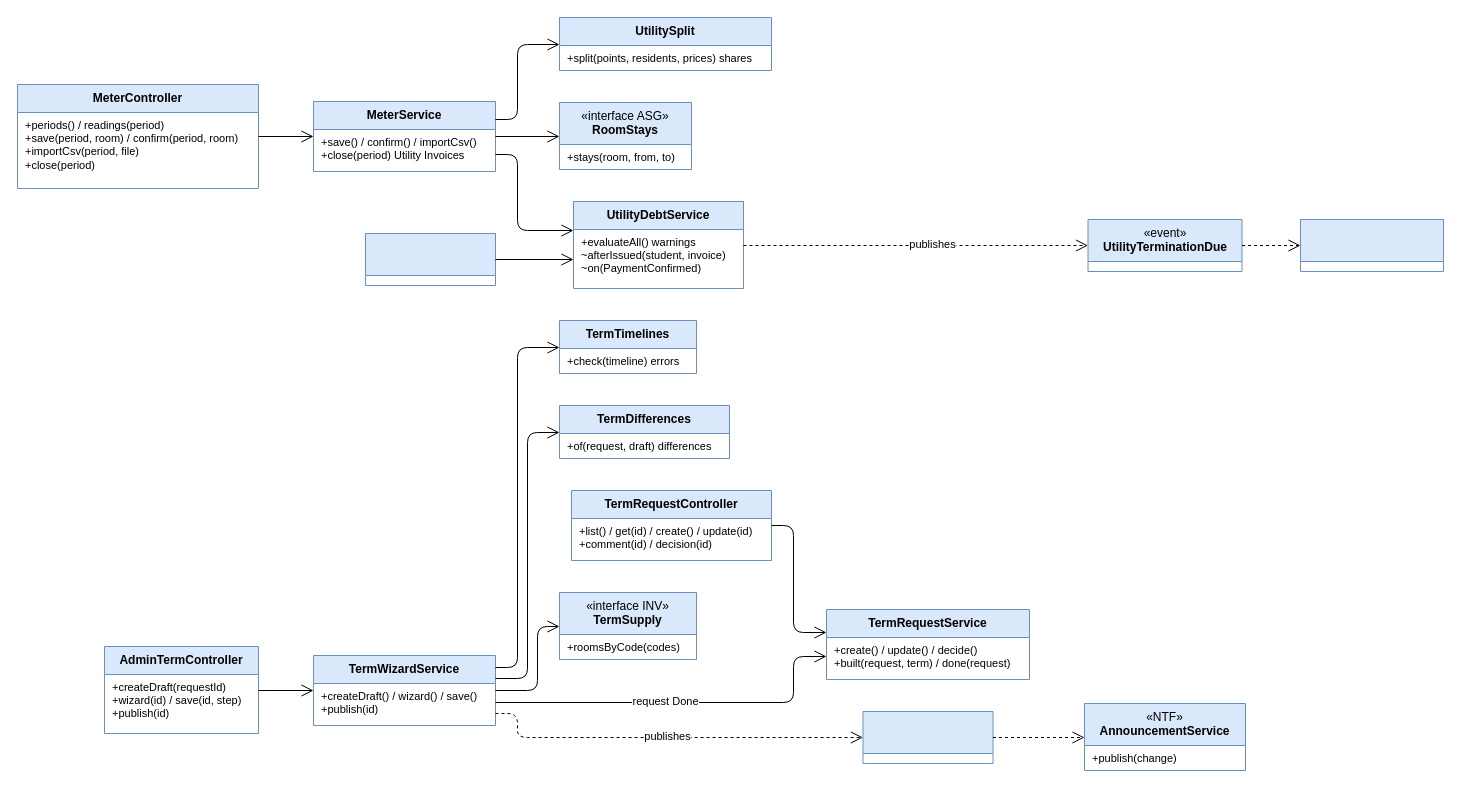
Some shapes in this 1461 by 791 pixel diagram are drawn without their labels. The centre of each missing label's shape, as x and y in pixels:
"«ASG» TerminationService" belongs at (1372,245).
"«event» PolicyChanged" belongs at (927,737).
"«scheduled 1 h» OverdueJob" belongs at (430,259).
